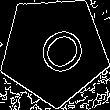O_SW: (22, 18, 86, 83)
